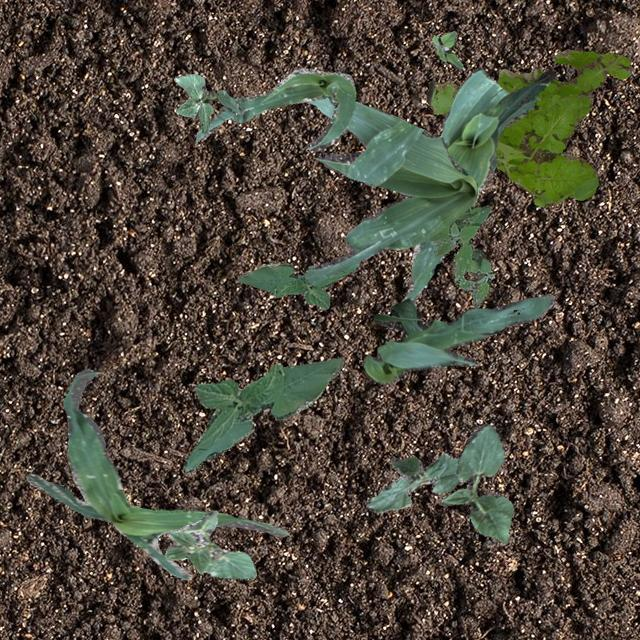crop: (26, 368, 286, 580), (402, 66, 554, 304), (304, 95, 476, 284), (182, 356, 342, 471), (361, 292, 554, 383), (194, 66, 356, 150), (438, 422, 512, 542), (164, 508, 256, 578), (236, 262, 358, 308), (366, 452, 458, 512), (172, 72, 240, 132)
weed: (425, 48, 631, 206), (428, 204, 492, 306), (432, 31, 462, 68)
